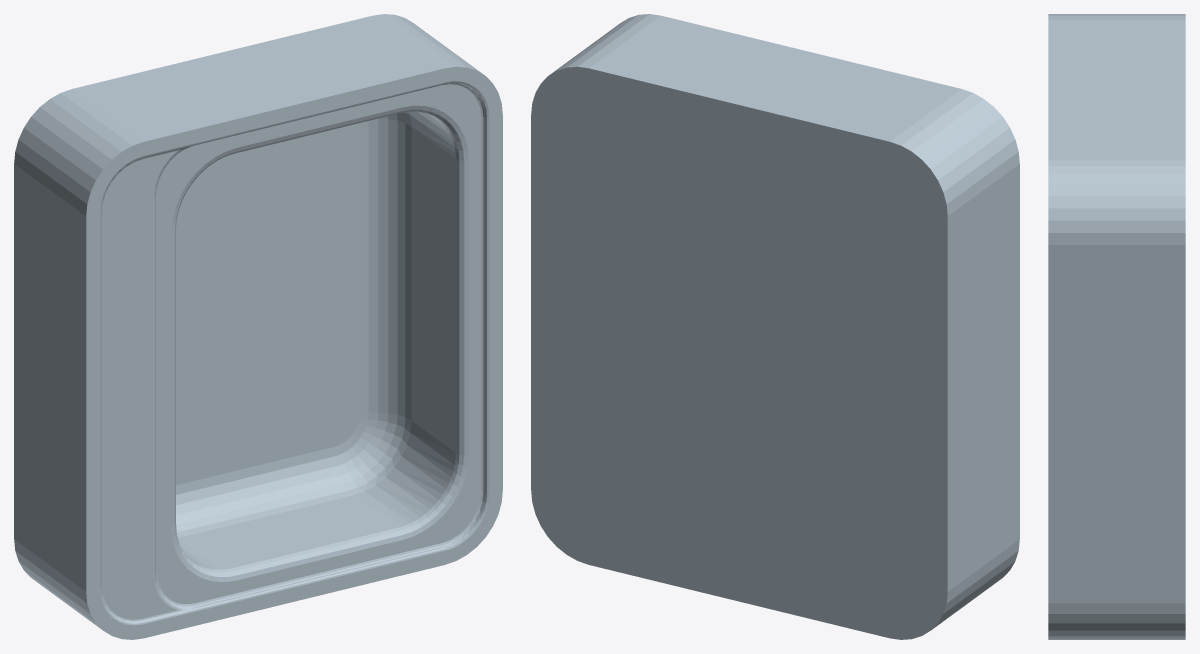
The model's file is mobile-kitchen-counter__Sink_sink.obj.
3 renders of one model, left to right at view 1: azimuth 30°, elevation 25°; view 2: azimuth 150°, elevation 25°; view 3: azimuth 270°, elevation 25°, orthographic. The views are drawn at different scales.
Visible parts, largest first — view 1: sink_o62_IndexedFaceSet; view 2: sink_o62_IndexedFaceSet; view 3: sink_o62_IndexedFaceSet.
Boxes of the visible parts, <box> form: sink_o62_IndexedFaceSet: <box>14,14,502,639</box>; sink_o62_IndexedFaceSet: <box>531,14,1019,639</box>; sink_o62_IndexedFaceSet: <box>1048,14,1185,639</box>.
Bounding box in the file's own units: 0.504 × 0.574 × 0.151.
